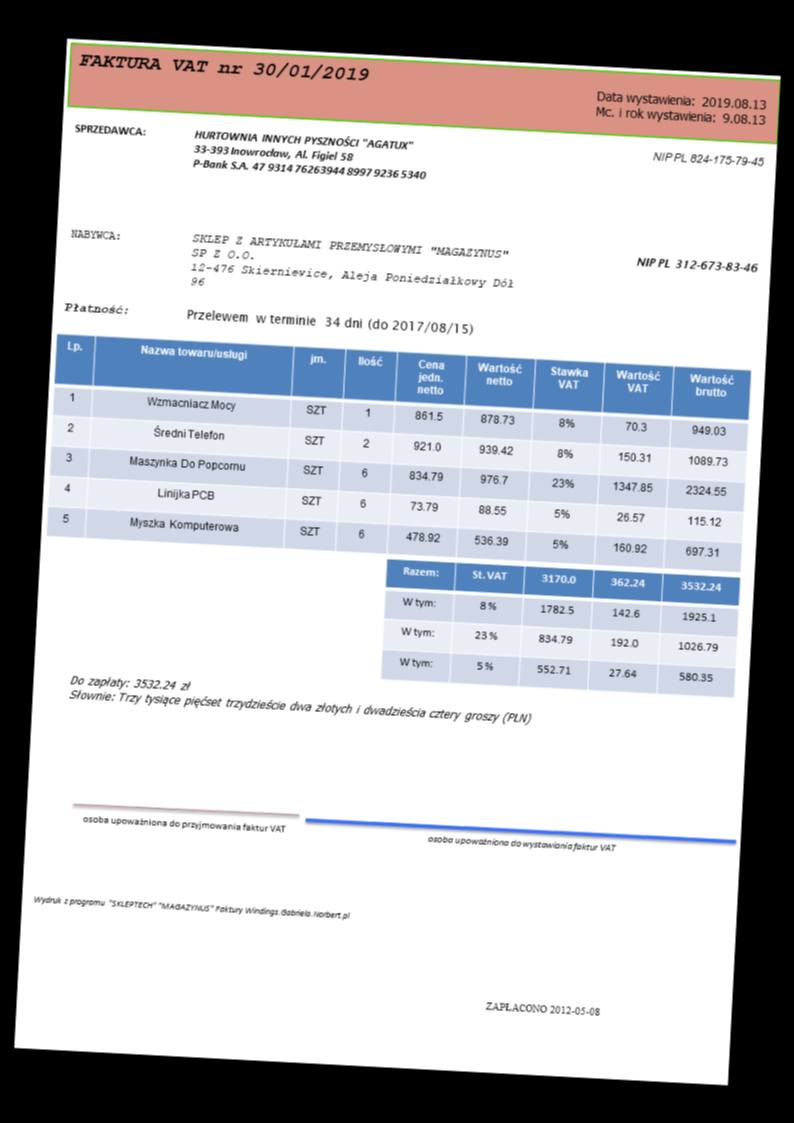Table: (44, 331, 752, 574), (379, 557, 741, 698), (66, 671, 533, 728)
TextBox: (185, 229, 518, 305), (190, 127, 429, 182), (76, 48, 370, 86), (30, 892, 352, 923), (183, 306, 474, 337), (591, 86, 768, 127), (79, 812, 287, 836), (425, 832, 618, 855), (632, 253, 760, 275), (649, 148, 765, 169), (483, 998, 601, 1017), (71, 120, 147, 139), (62, 298, 129, 317), (67, 226, 122, 241)
